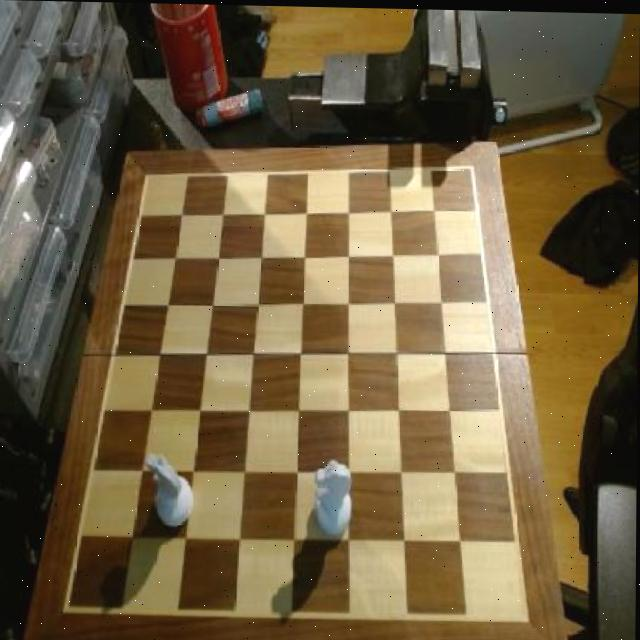white-king: (148, 449, 197, 528), (314, 455, 357, 537)
